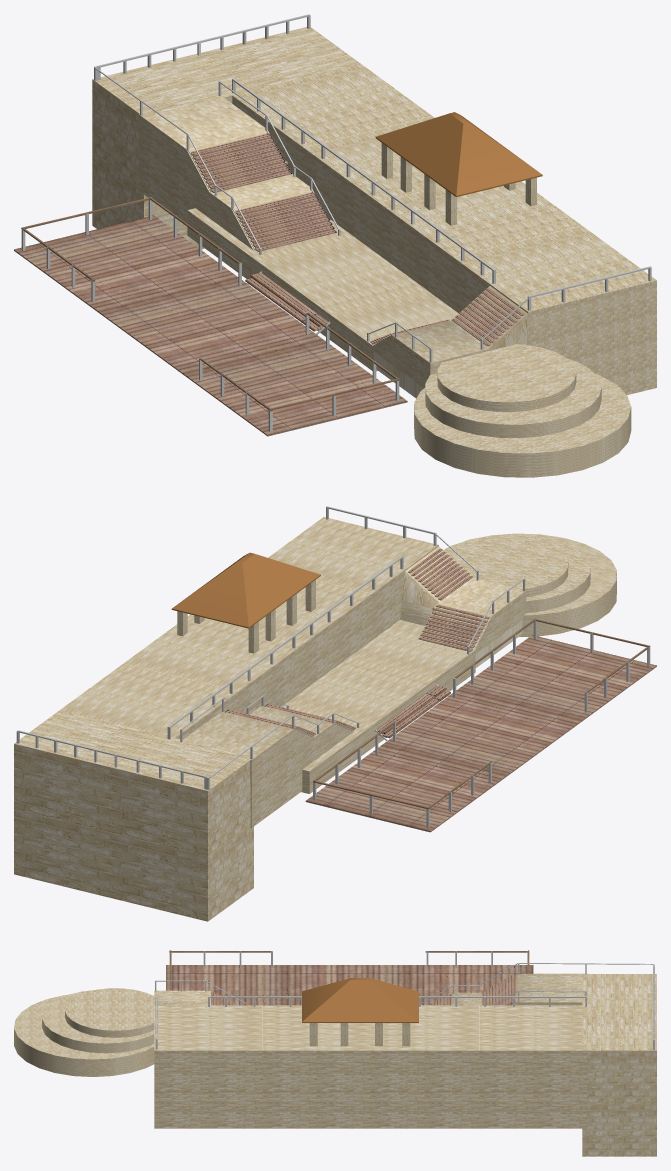
The model's file is Two_Stairs_side.fbx.
3 views of the same model, one above another, from view 1: azimuth 30°, elevation 25°; view 2: azimuth 150°, elevation 25°; view 3: azimuth 270°, elevation 25° (orthographic). The views are drawn at different scales.
Parts seen in each view (by area): view 1: Cube_16, Platform_2, Cube_1, Platform, Cylinder, Cylinder_2, Platform_3, Cube, Cylinder_1, Cube_3_3, Cube_4_3, Platform_1 (+2 smaller); view 2: Cube_1, Cube_16, Platform_2, Platform, Cube, Platform_3, Cylinder_2, Cube_3_3, Cylinder, Platform_1, Cylinder_1, Cube_2_3 (+2 smaller); view 3: Cube_16, Cube_1, Platform_2, Platform_3, Cylinder, Cylinder_2, Cylinder_1, Cube_3_3, Cube, Cube_4_3.
Part boxes in pixels (<box>): Cube_16: <box>232,64,656,394</box>; Platform_2: <box>14,215,407,436</box>; Cube_1: <box>92,27,360,248</box>; Platform: <box>187,208,458,357</box>; Cylinder: <box>414,374,631,477</box>; Cylinder_2: <box>437,344,576,411</box>; Platform_3: <box>375,112,542,196</box>; Cube: <box>373,286,527,398</box>; Cylinder_1: <box>425,358,601,438</box>; Cube_3_3: <box>139,97,267,191</box>; Cube_4_3: <box>197,174,311,250</box>; Platform_1: <box>187,211,377,371</box>; Cube_1: <box>14,710,253,921</box>; Cube_16: <box>60,517,438,739</box>; Platform_2: <box>305,635,656,832</box>; Platform: <box>281,620,488,772</box>; Cube: <box>400,546,526,667</box>; Platform_3: <box>171,552,320,628</box>; Cylinder_2: <box>449,538,568,597</box>; Cube_3_3: <box>183,711,313,783</box>; Cylinder: <box>443,533,616,636</box>; Platform_1: <box>301,651,475,793</box>; Cylinder_1: <box>445,535,590,613</box>; Cube_2_3: <box>250,746,303,828</box>; Cube_16: <box>154,1005,587,1128</box>; Cube_1: <box>582,974,656,1156</box>; Platform_2: <box>166,965,533,1005</box>; Platform_3: <box>302,978,418,1022</box>; Cylinder: <box>14,995,154,1076</box>; Cylinder_2: <box>65,988,154,1037</box>; Cylinder_1: <box>42,990,154,1053</box>; Cube_3_3: <box>514,973,587,1005</box>; Cube: <box>154,990,211,1005</box>; Cube_4_3: <box>452,992,481,1005</box>.
Size of the model in its own units: 545 by 298 by 1100.
